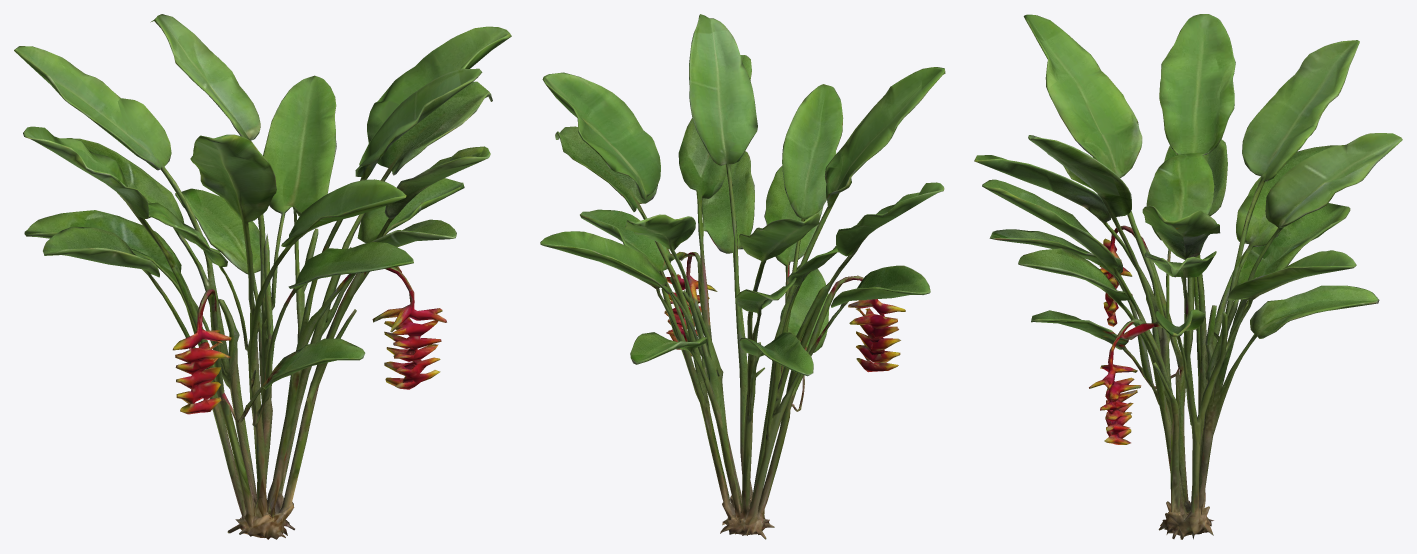
Rendered from heliconia.glb.
The picture shows the model from 3 angles, left to right: view 1: azimuth 30°, elevation 25°; view 2: azimuth 150°, elevation 25°; view 3: azimuth 270°, elevation 25°; orthographic projection. The views are drawn at different scales.
Visible parts, largest first — view 1: lod0; view 2: lod0; view 3: lod0.
Part boxes in pixels (x1,y1,x2,y2): lod0: (14, 14, 511, 539); lod0: (540, 14, 945, 539); lod0: (974, 14, 1402, 539).
Size of the model in its own units: 1.2 by 1.2 by 1.03.
Materials: 1 (1 with a texture image).
